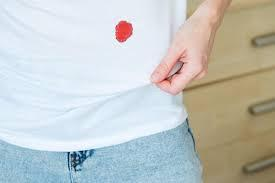blood: (113, 18, 135, 43)
